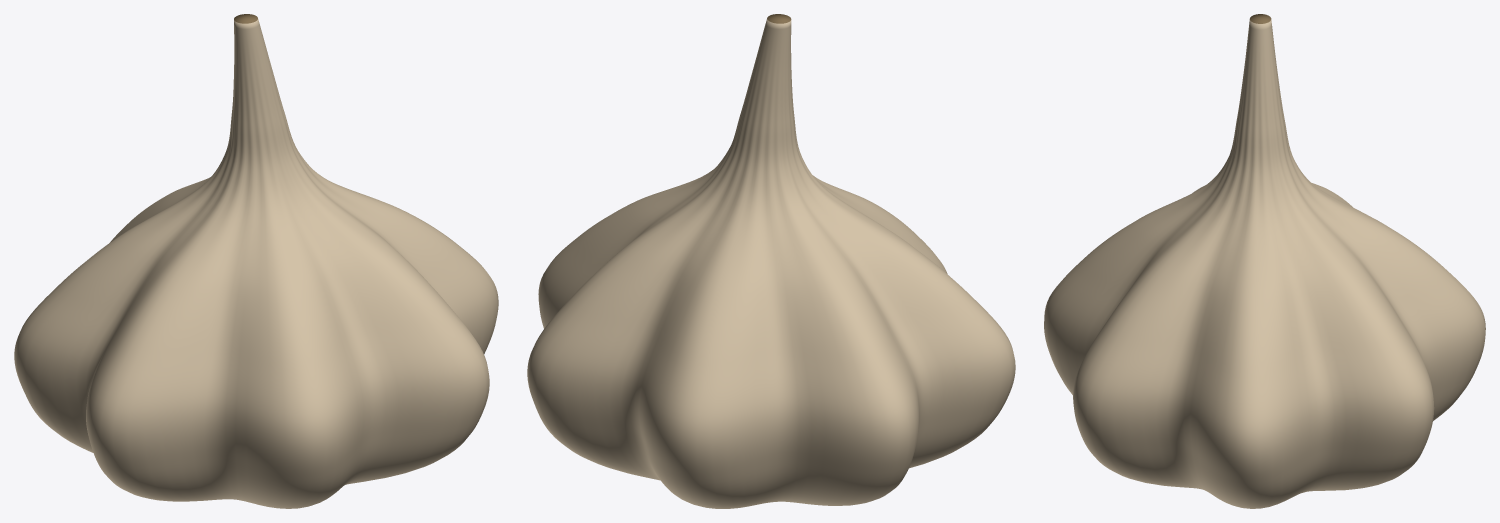
File: A-NEW-20261027-GARLIC-001_LOD0_R1.fbx
3 views of the same model, side by side, from view 1: azimuth 30°, elevation 25°; view 2: azimuth 150°, elevation 25°; view 3: azimuth 270°, elevation 25° (orthographic). The views are drawn at different scales.
Parts seen in each view (by area): view 1: continuous original garlic clove lobes and dry neck; view 2: continuous original garlic clove lobes and dry neck; view 3: continuous original garlic clove lobes and dry neck.
Boxes of the visible parts, x1,y1,x2,y2 form: continuous original garlic clove lobes and dry neck: [14, 14, 498, 508]; continuous original garlic clove lobes and dry neck: [527, 14, 1015, 508]; continuous original garlic clove lobes and dry neck: [1044, 14, 1485, 508].
Bounding box in the file's own units: 7.75 × 7.86 × 7.1.
